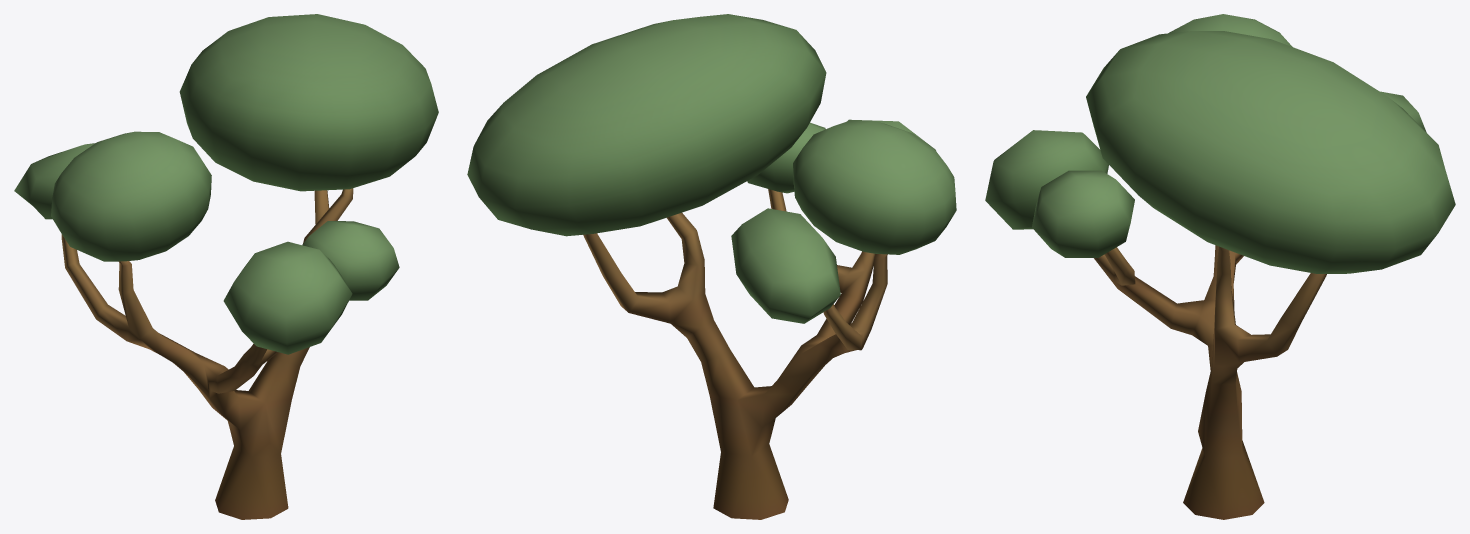
The model's file is pack03_foliage2_20.fbx.
The picture shows the model from 3 angles, left to right: view 1: azimuth 30°, elevation 25°; view 2: azimuth 150°, elevation 25°; view 3: azimuth 270°, elevation 25°; orthographic projection. The views are drawn at different scales.
Parts seen in each view (by area): view 1: Tree.014; view 2: Tree.014; view 3: Tree.014.
Part boxes in pixels (box(x1,y1,x2,y2)): Tree.014: box(14, 14, 438, 519); Tree.014: box(467, 14, 956, 519); Tree.014: box(985, 14, 1455, 519).
Bounding box in the file's own units: 639 × 682 × 608.
1 material, 1 textured.
